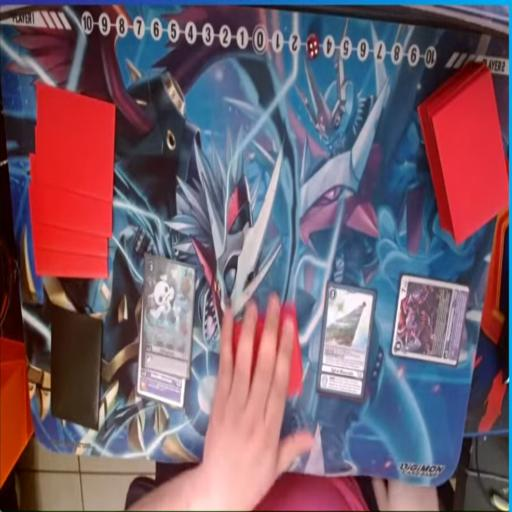card: (392, 274, 469, 370), (320, 282, 378, 406), (144, 252, 198, 383), (137, 367, 188, 412)
